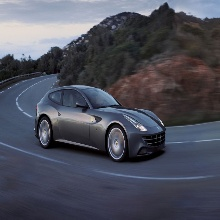no damage: (35, 85, 167, 164)
